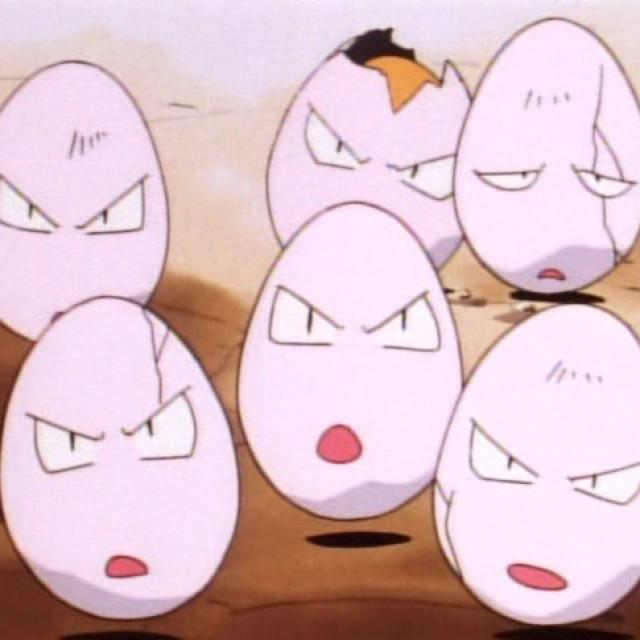Exeggcute: (13, 39, 640, 618)
